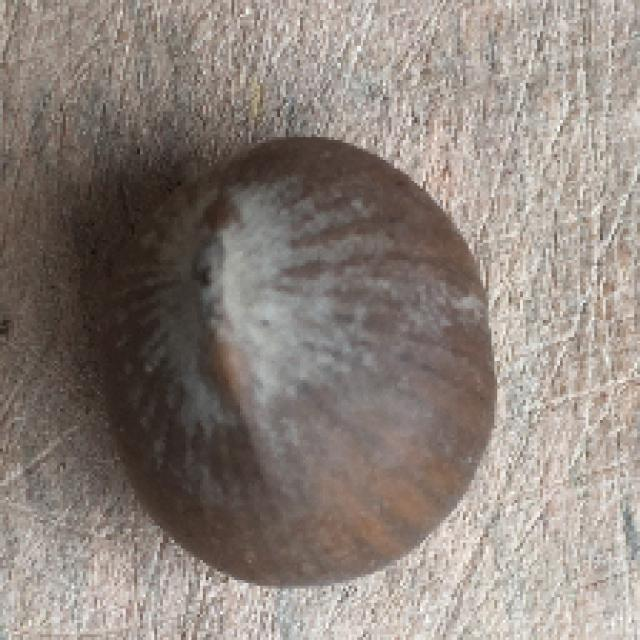qualityHazelnut: (97, 123, 506, 592)
